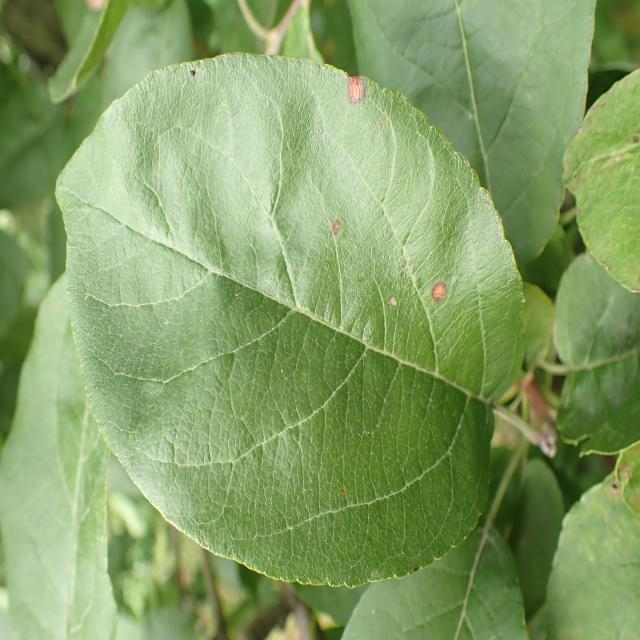Black Rot: (335, 44, 376, 150), (313, 200, 349, 249), (424, 275, 459, 314)
